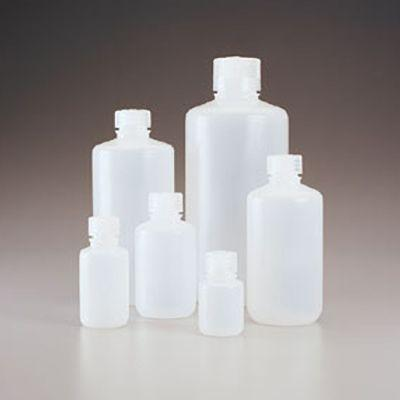HDPE: (240, 145, 346, 333), (66, 203, 136, 337), (192, 240, 254, 348)
